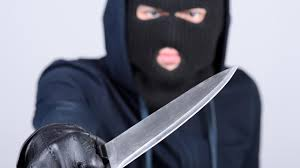knife: (82, 56, 246, 168)
